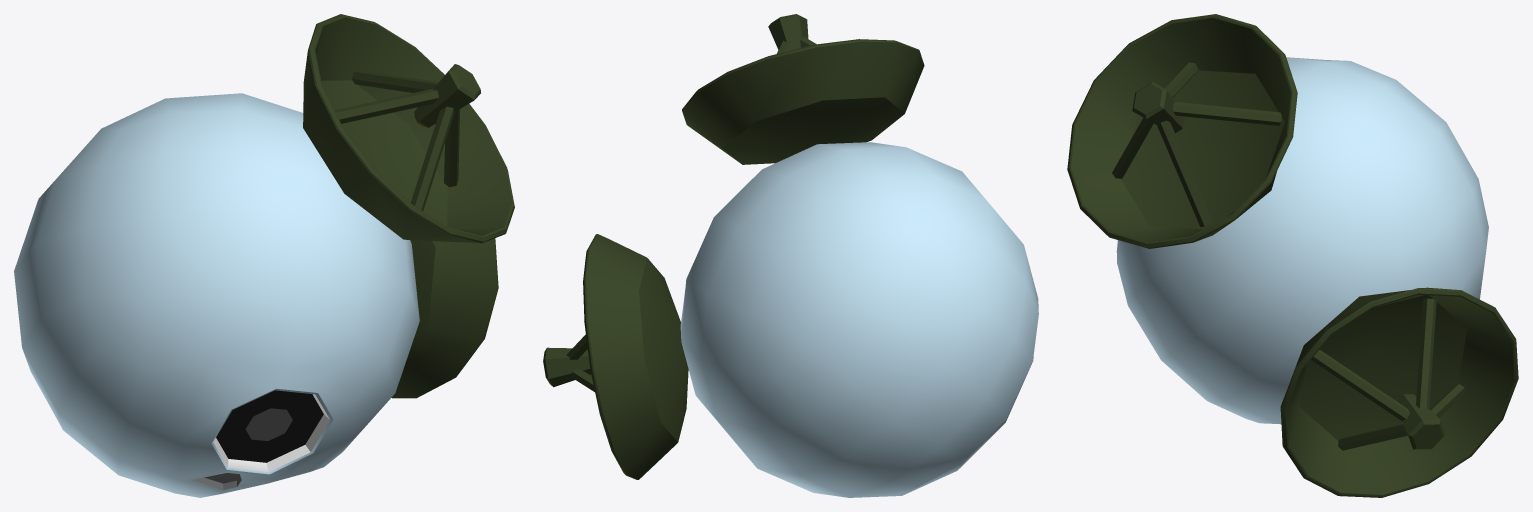
Rendered from Player_Head.fbx.
3 renders of one model, left to right at view 1: azimuth 30°, elevation 25°; view 2: azimuth 150°, elevation 25°; view 3: azimuth 270°, elevation 25°, orthographic. The views are drawn at different scales.
Parts seen in each view (by area): view 1: _Sep_Head, SatalliteDish_LOW.002; view 2: _Sep_Head, SatalliteDish_LOW.002; view 3: SatalliteDish_LOW.002, _Sep_Head.
Part boxes in pixels (<box>): _Sep_Head: <box>14,93,419,497</box>; SatalliteDish_LOW.002: <box>303,14,514,398</box>; _Sep_Head: <box>680,142,1038,497</box>; SatalliteDish_LOW.002: <box>543,14,924,479</box>; SatalliteDish_LOW.002: <box>1067,14,1518,497</box>; _Sep_Head: <box>1116,57,1488,424</box>.
Bounding box in the file's own units: 66.59 × 61.91 × 60.76.
